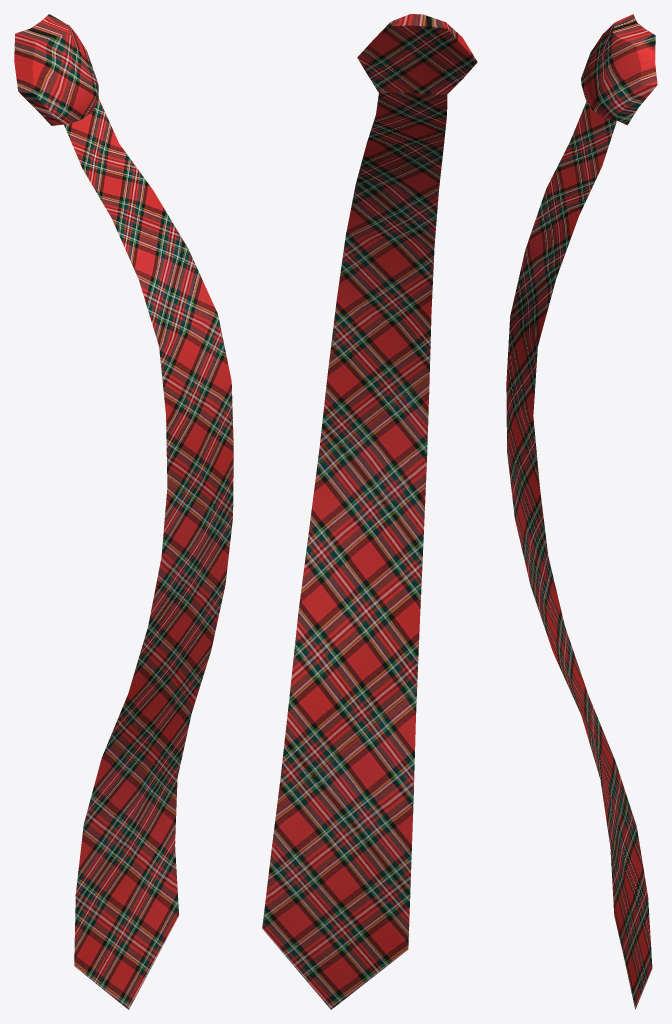
Rendered from Pose-5_SuitTie-1.fbx.
The picture shows the model from 3 angles, left to right: view 1: azimuth 30°, elevation 25°; view 2: azimuth 150°, elevation 25°; view 3: azimuth 270°, elevation 25°; orthographic projection. The views are drawn at different scales.
Parts seen in each view (by area): view 1: Pose-5_SuitTie-1; view 2: Pose-5_SuitTie-1; view 3: Pose-5_SuitTie-1.
Part boxes in pixels (x1,y1,x2,y2): Pose-5_SuitTie-1: [14, 14, 233, 1009]; Pose-5_SuitTie-1: [262, 14, 477, 1009]; Pose-5_SuitTie-1: [506, 14, 657, 1009].
Size of the model in its own units: 10.11 by 51.67 by 7.5.
